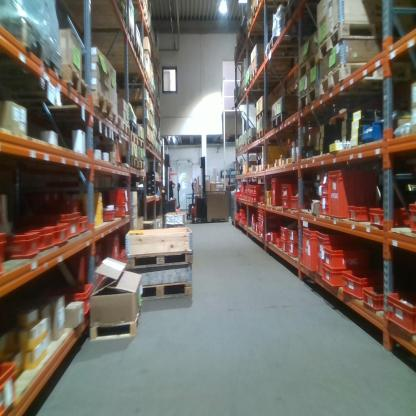pallet: (1, 58, 90, 106), (318, 20, 405, 63), (318, 62, 412, 98), (34, 89, 113, 125), (126, 250, 194, 273), (140, 281, 194, 304), (265, 36, 300, 62), (298, 83, 319, 111), (298, 55, 320, 80), (271, 112, 297, 129), (109, 107, 124, 133), (117, 2, 128, 31), (119, 117, 130, 139), (128, 101, 150, 112), (130, 39, 140, 63), (126, 21, 135, 46), (254, 110, 271, 123), (135, 117, 151, 130), (256, 129, 273, 141), (135, 51, 144, 73), (127, 154, 139, 170), (126, 117, 137, 134), (251, 67, 262, 83), (250, 5, 258, 23), (246, 138, 257, 149), (130, 134, 139, 147), (243, 78, 251, 92), (138, 161, 145, 171), (143, 139, 150, 149), (138, 138, 144, 149), (150, 145, 154, 152)
pallet_truck: (164, 150, 185, 224), (191, 156, 209, 224)
small_load_carrier: (328, 167, 377, 226), (314, 228, 358, 281), (51, 280, 97, 323), (38, 206, 81, 247), (339, 269, 389, 299), (320, 244, 370, 270), (387, 293, 416, 337), (371, 198, 403, 233), (11, 229, 42, 263), (1, 359, 20, 414), (363, 281, 389, 315), (303, 224, 316, 275), (320, 263, 341, 294), (37, 226, 58, 254), (272, 177, 291, 204), (0, 229, 11, 274), (85, 240, 104, 266), (58, 218, 74, 245), (347, 205, 370, 222), (405, 198, 416, 233), (110, 201, 132, 217), (79, 211, 89, 237), (281, 185, 298, 198), (102, 207, 116, 220), (321, 169, 330, 185), (289, 245, 300, 258), (288, 232, 299, 244), (280, 227, 288, 243), (320, 206, 329, 218), (290, 197, 299, 209), (281, 197, 290, 209), (320, 185, 330, 195), (320, 195, 329, 206), (270, 232, 276, 244), (260, 210, 265, 218), (260, 220, 264, 229), (276, 239, 281, 246), (260, 228, 264, 236)
